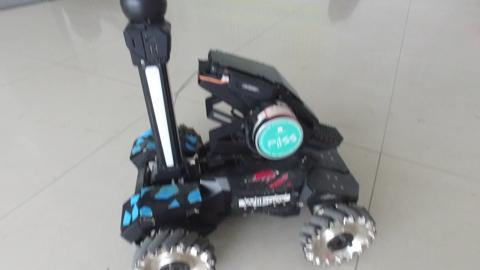chariot: (83, 20, 362, 270)
